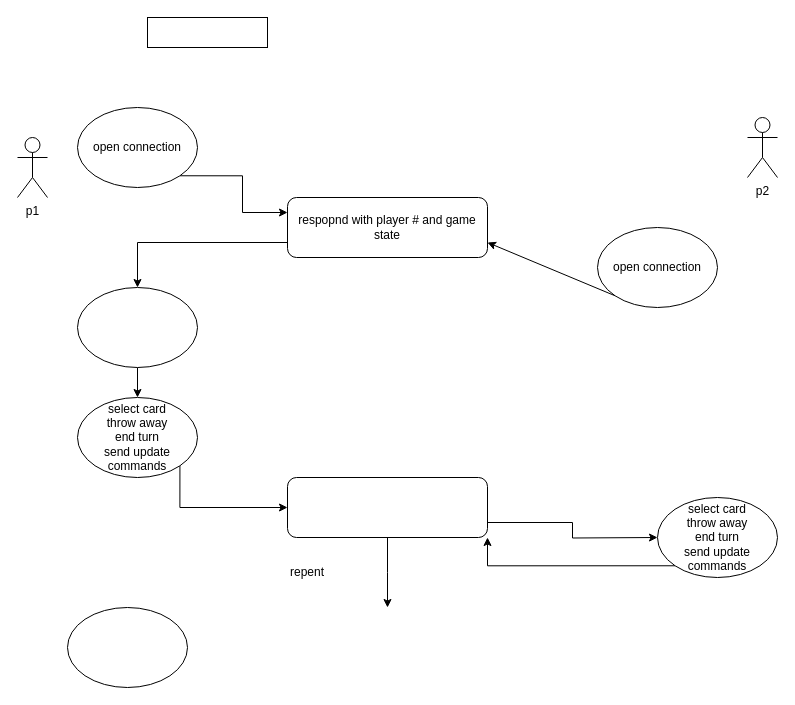
The diagram is 795 pixels wide and 705 high, and some of its shapes have lost their labels. The shapes that lost their labels are listed below. From the top down, each one's centre as x and y in pixels, then its label:
At point (207, 32): "websocket".
At point (137, 327): "wait for p2".
At point (387, 507): "send updated game state".
At point (127, 647): "puts down".
